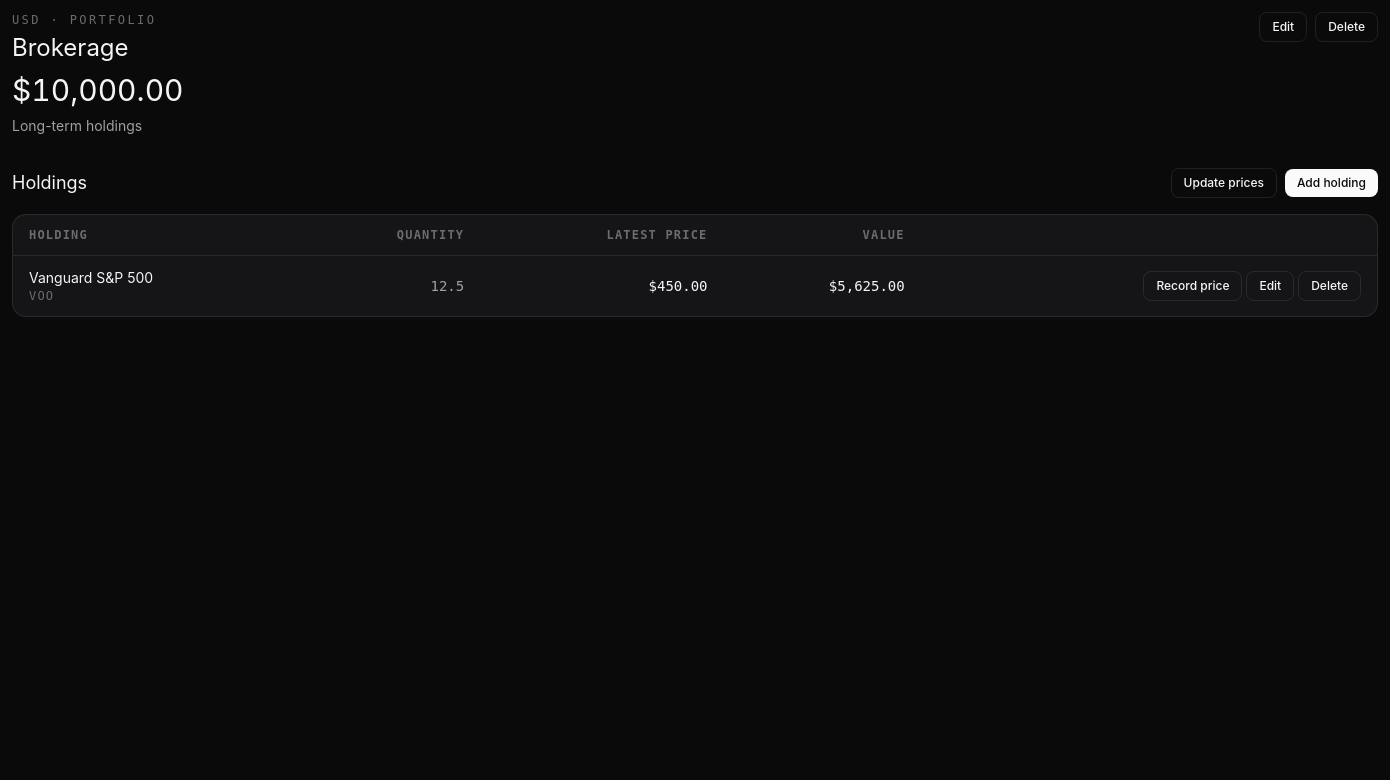
Test: PortfolioDetail › refreshes crypto prices via the Update prices button and toasts the summary
This screenshot has width=1390, height=780.
Check: the text "Vanguard S&P 500" is shown, box [29,269,153,286]
Click the button "Update prices": click(1224, 183) [1171,168,1277,198]
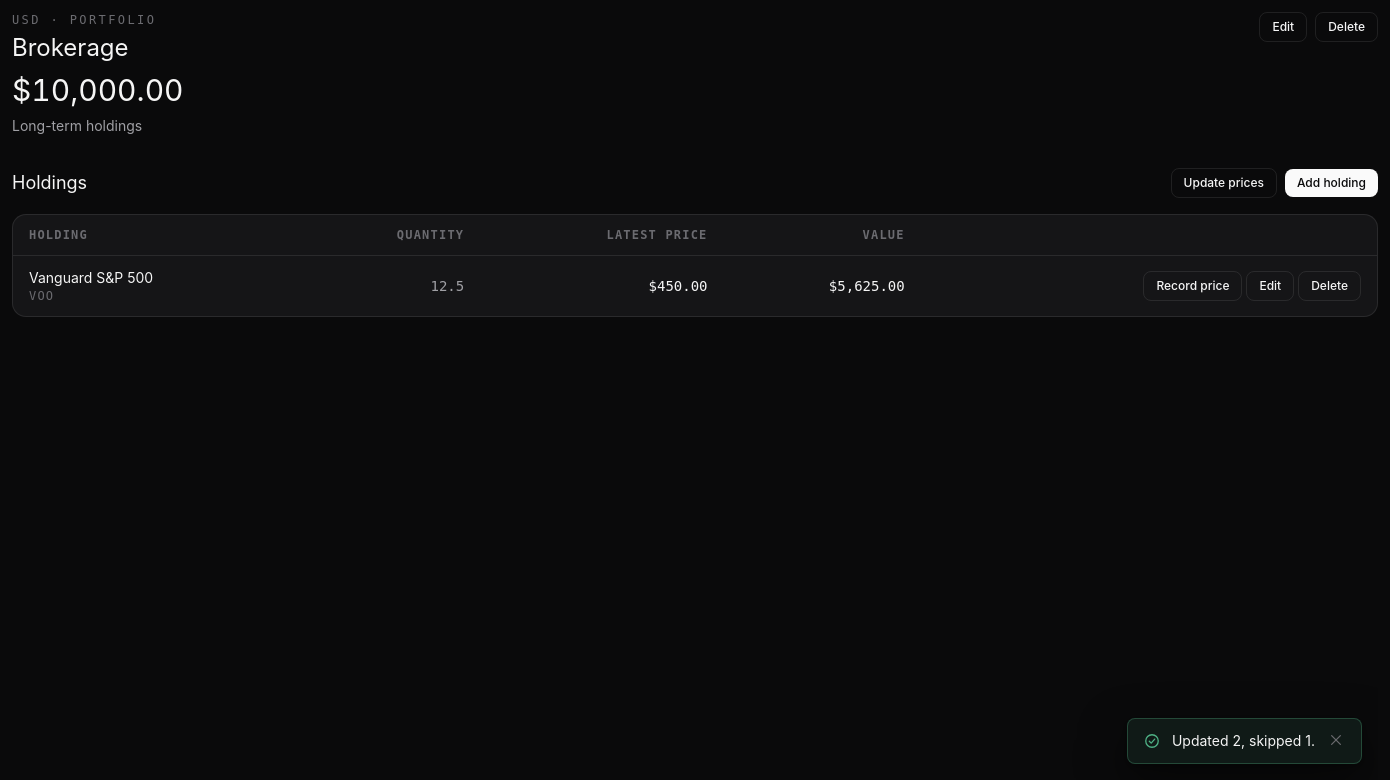
Check: the text "Updated 2, skipped 1." is shown, box [1172,731,1315,751]
